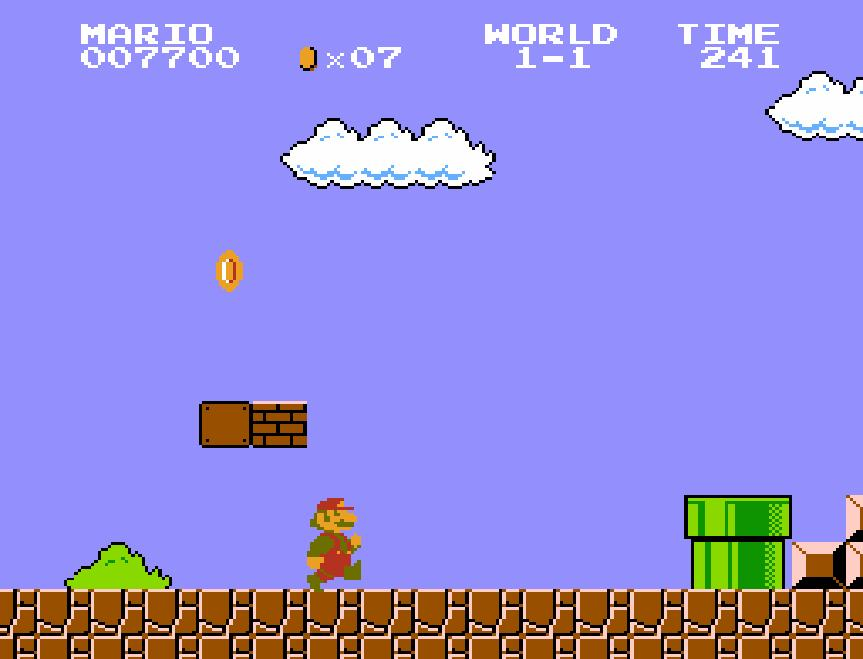big_mario: (304, 496, 362, 594)
